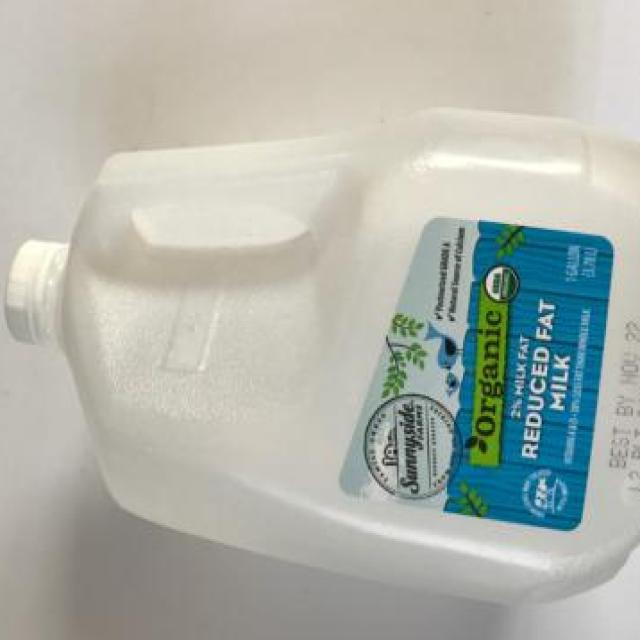inorganic: (59, 149, 619, 589)
organic: (10, 86, 635, 608)
